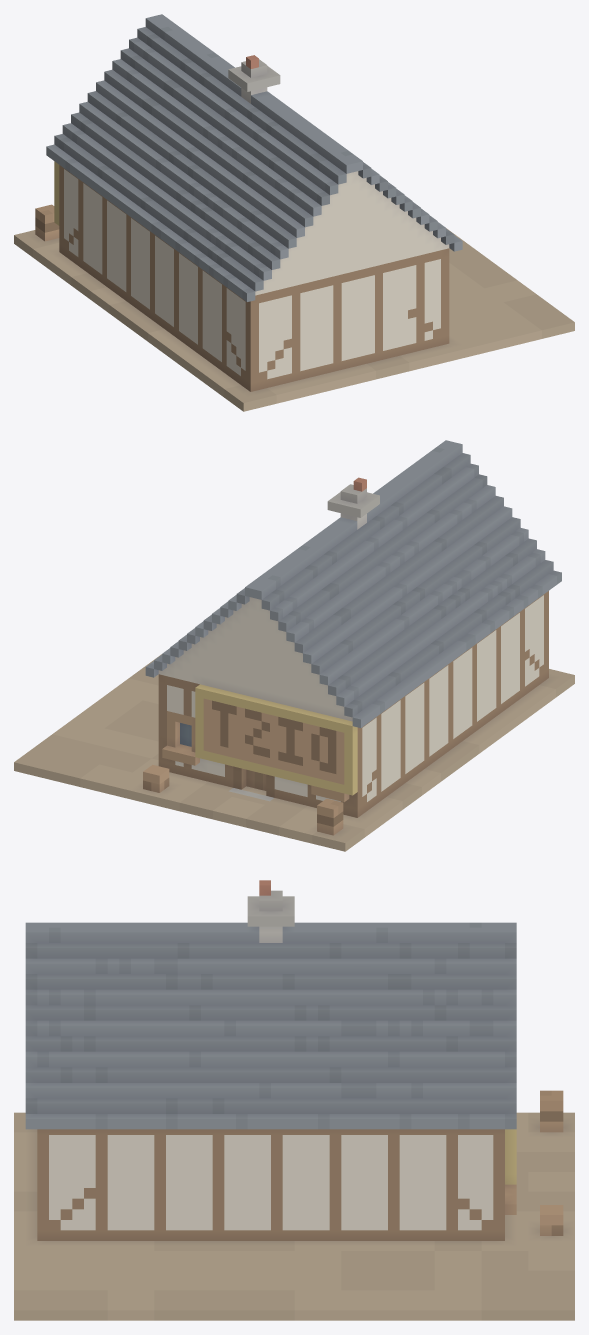
File: distillery.glb
3 views of the same model, one above another, from view 1: azimuth 30°, elevation 25°; view 2: azimuth 150°, elevation 25°; view 3: azimuth 270°, elevation 25° (orthographic). The views are drawn at different scales.
Parts seen in each view (by area): view 1: distillery; view 2: distillery; view 3: distillery.
Part boxes in pixels (x1,y1,x2,y2): distillery: (14,14,574,411); distillery: (14,440,574,851); distillery: (14,880,574,1320).
Bounding box in the file's own units: 5 × 3.62 × 6.
